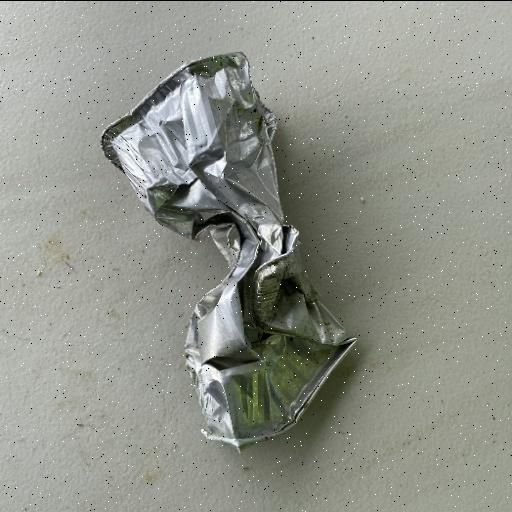Metal: (96, 50, 358, 454)
